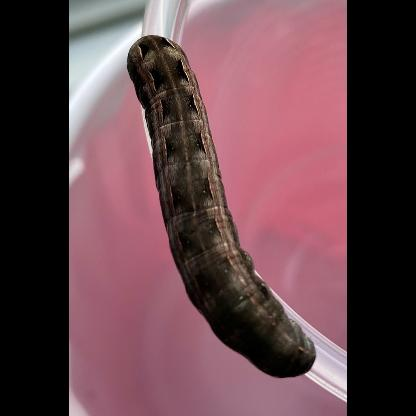Fall Armyworm Larvae: (124, 31, 320, 382)
